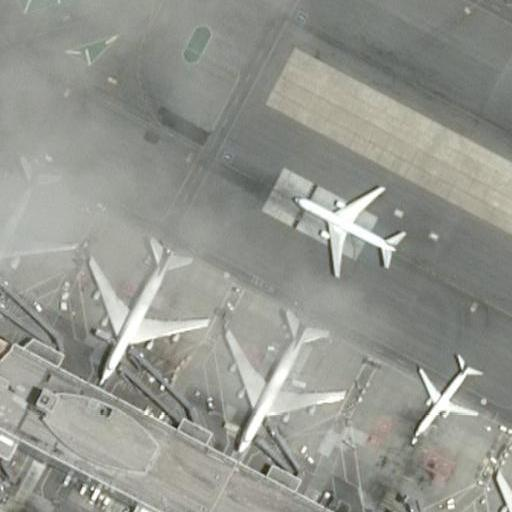Aircraft: (77, 225, 205, 386), (216, 302, 344, 457), (284, 182, 410, 279), (403, 347, 485, 448), (489, 440, 512, 512)
